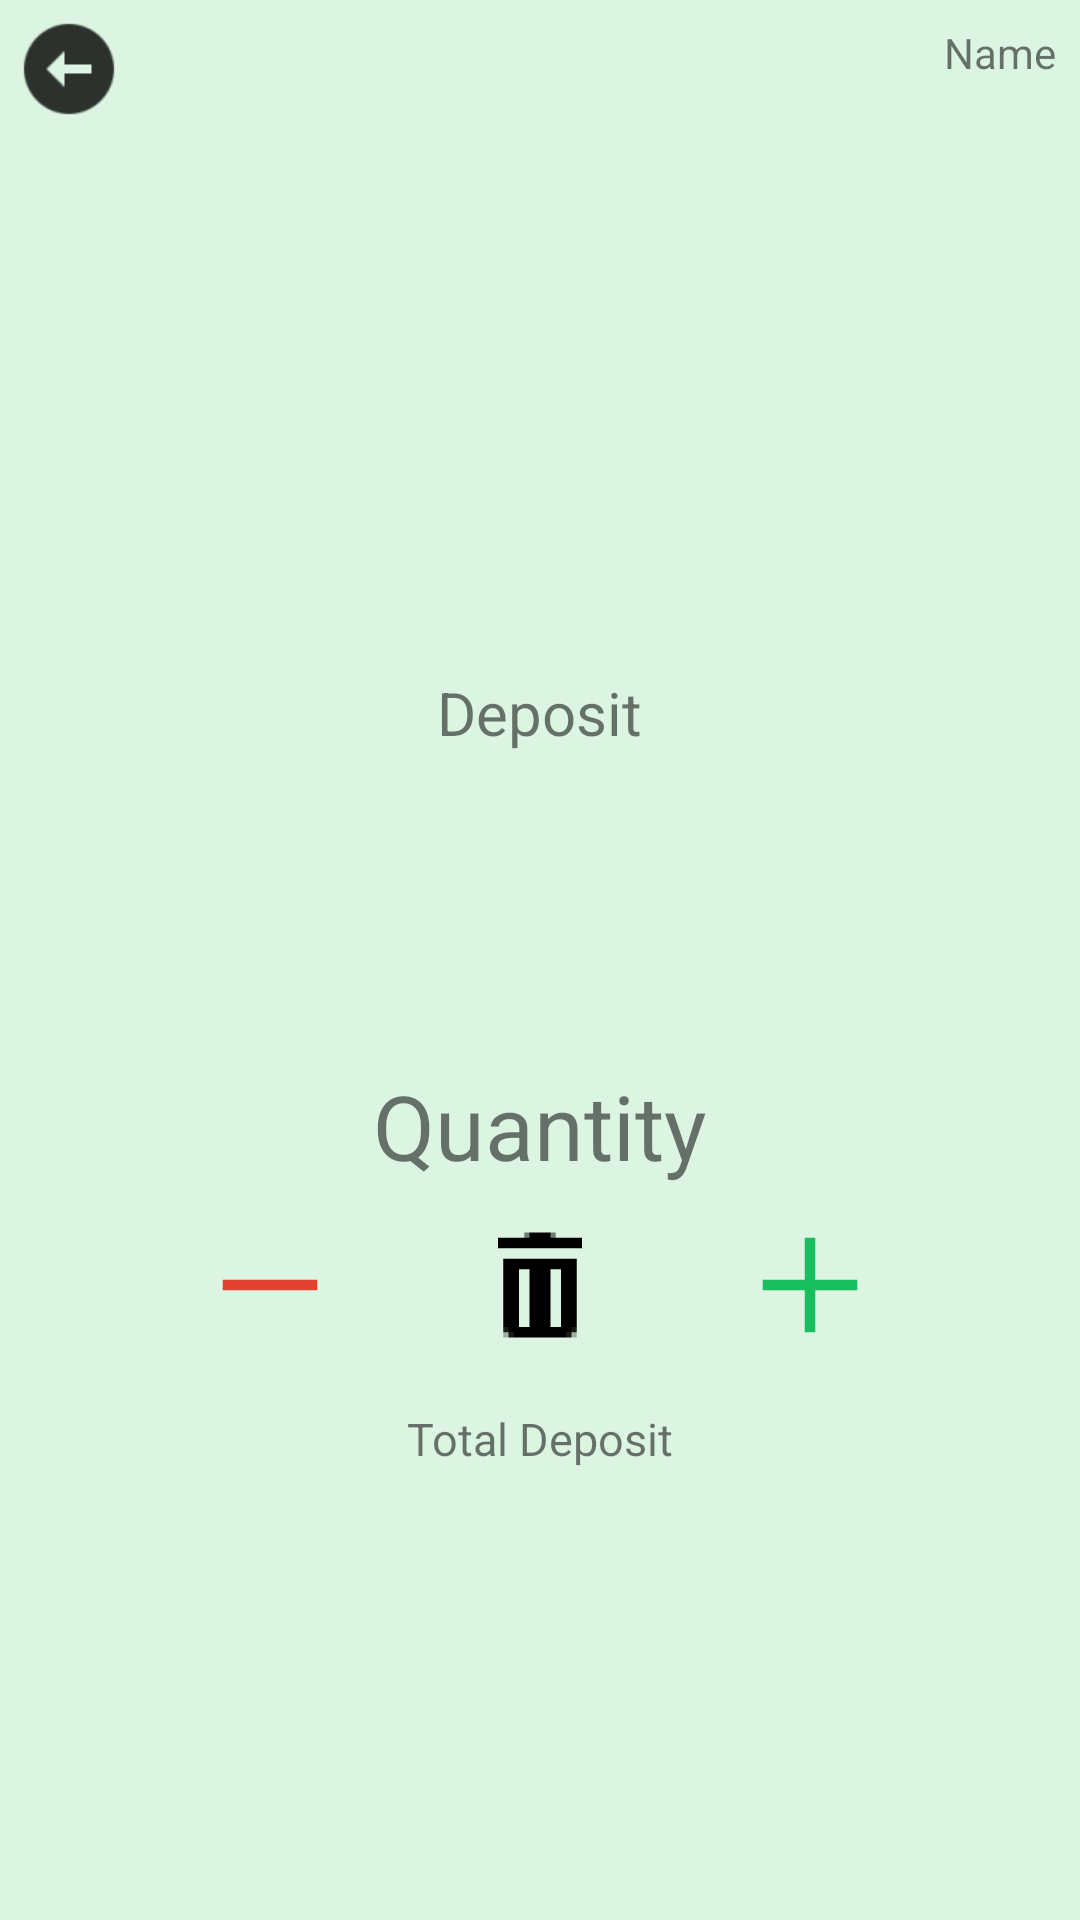

Icons on this 1080px x 1920px Android screen, each with its box as (x1, y1, x2, y2):
bin: (498, 1232, 582, 1338)
plus: (762, 1237, 858, 1333)
